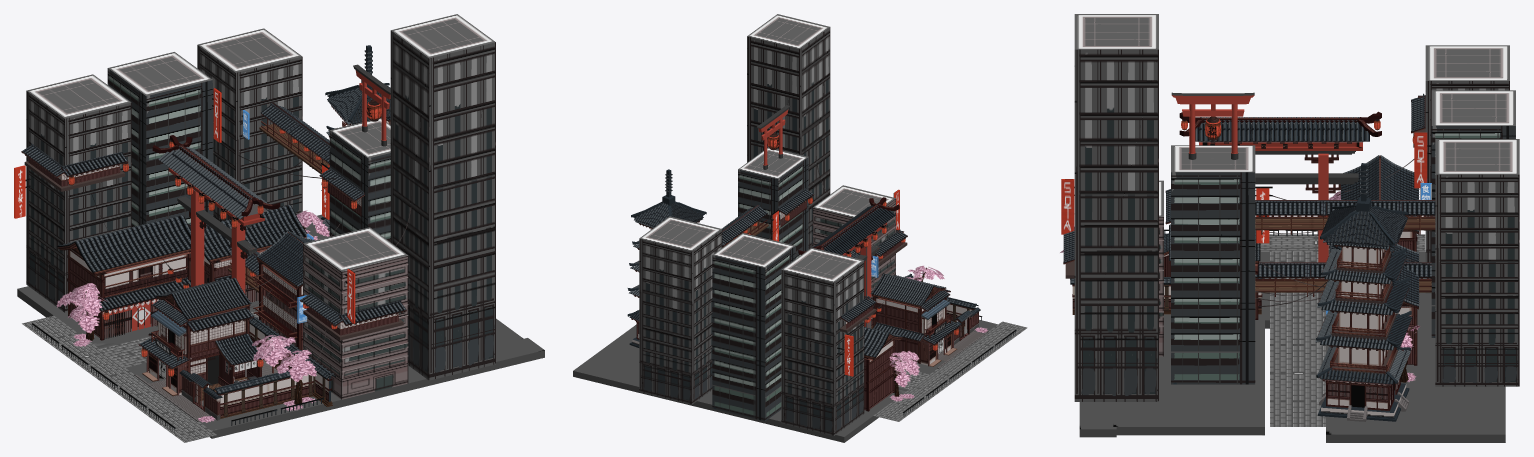
3 renders of one model, left to right at view 1: azimuth 30°, elevation 25°; view 2: azimuth 150°, elevation 25°; view 3: azimuth 270°, elevation 25°, orthographic. The views are drawn at different scales.
Parts seen in each view (by area): view 1: Object614_Material #11_0, Object422_Material #11_0, Object434_Material #11_0, Object548_Material #11_0, Object433_Material #11_0, Plane112, Box231, Object541_Material #11_0, Object527_Material #12_0, Object390_Material #4_0, Plane084, Object528_Material #12_0 (+26 smaller); view 2: Object422_Material #11_0, Object548_Material #11_0, Object433_Material #11_0, Object614_Material #11_0, Object541_Material #11_0, Object530_Material #12_0, Box231, Object527_Material #12_0, Object434_Material #11_0, Object640_Material #4_0, Object639_Material #4_0, Object532_Material #4_0 (+8 smaller); view 3: Object614_Material #11_0, Object548_Material #11_0, Object541_Material #11_0, Object530_Material #12_0, Object552_Material #12_0, Object532_Material #4_0, Object529_Material #12_0, Object433_Material #11_0, Object422_Material #11_0, Box530, Object640_Material #4_0, Object390_Material #4_0 (+22 smaller).
Boxes of the visible parts, x1,y1,x2,y2 form: Object614_Material #11_0: [390, 14, 495, 380]; Object422_Material #11_0: [26, 74, 131, 312]; Object434_Material #11_0: [303, 227, 408, 399]; Object548_Material #11_0: [197, 28, 302, 221]; Object433_Material #11_0: [107, 52, 213, 228]; Plane112: [102, 257, 335, 418]; Box231: [138, 135, 280, 411]; Object541_Material #11_0: [329, 118, 390, 241]; Object527_Material #12_0: [22, 315, 216, 442]; Object390_Material #4_0: [57, 215, 190, 276]; Plane084: [148, 320, 260, 420]; Object528_Material #12_0: [197, 338, 544, 438]; Object422_Material #11_0: [781, 247, 864, 435]; Object548_Material #11_0: [639, 216, 722, 404]; Object433_Material #11_0: [712, 233, 795, 421]; Object614_Material #11_0: [747, 14, 830, 249]; Object541_Material #11_0: [738, 147, 808, 258]; Object530_Material #12_0: [573, 324, 908, 442]; Box231: [798, 197, 978, 366]; Object527_Material #12_0: [873, 321, 1027, 421]; Object434_Material #11_0: [812, 185, 895, 299]; Object640_Material #4_0: [812, 204, 895, 254]; Object639_Material #4_0: [870, 273, 946, 308]; Object532_Material #4_0: [628, 201, 704, 320]; Object614_Material #11_0: [1074, 14, 1158, 401]; Object548_Material #11_0: [1435, 139, 1519, 386]; Object541_Material #11_0: [1171, 145, 1255, 384]; Object530_Material #12_0: [1326, 251, 1505, 442]; Object552_Material #12_0: [1113, 314, 1264, 435]; Object532_Material #4_0: [1315, 206, 1412, 384]; Object529_Material #12_0: [1270, 251, 1325, 426]; Object433_Material #11_0: [1431, 90, 1515, 337]; Object422_Material #11_0: [1425, 45, 1509, 293]; Box530: [1198, 123, 1362, 302]; Object640_Material #4_0: [1195, 117, 1369, 141]; Object390_Material #4_0: [1340, 155, 1419, 234].
Size of the model in its own units: 131 by 110 by 128.
Materials: 16 (12 with a texture image).
